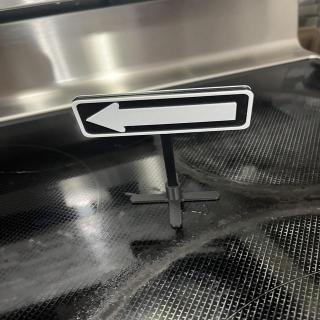sign_oneway_left: (72, 87, 256, 139)
